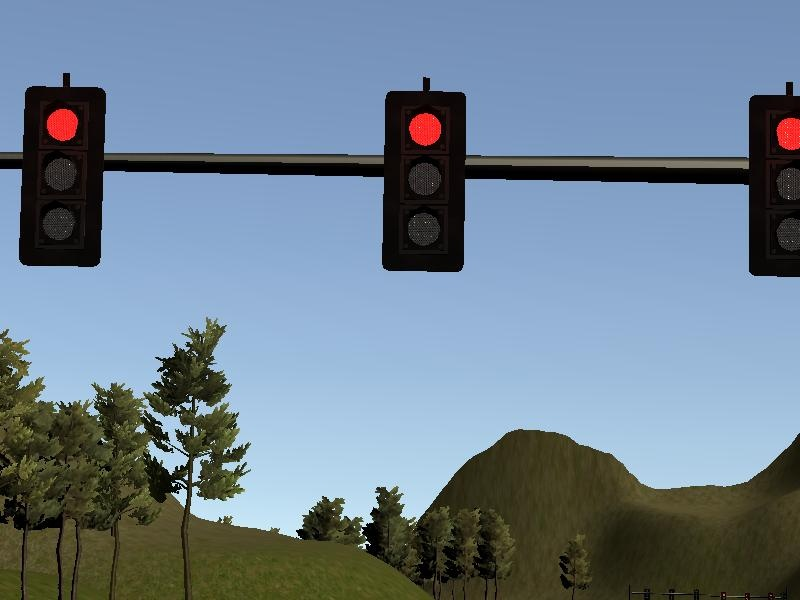traffic_light_red: (13, 71, 800, 284)
